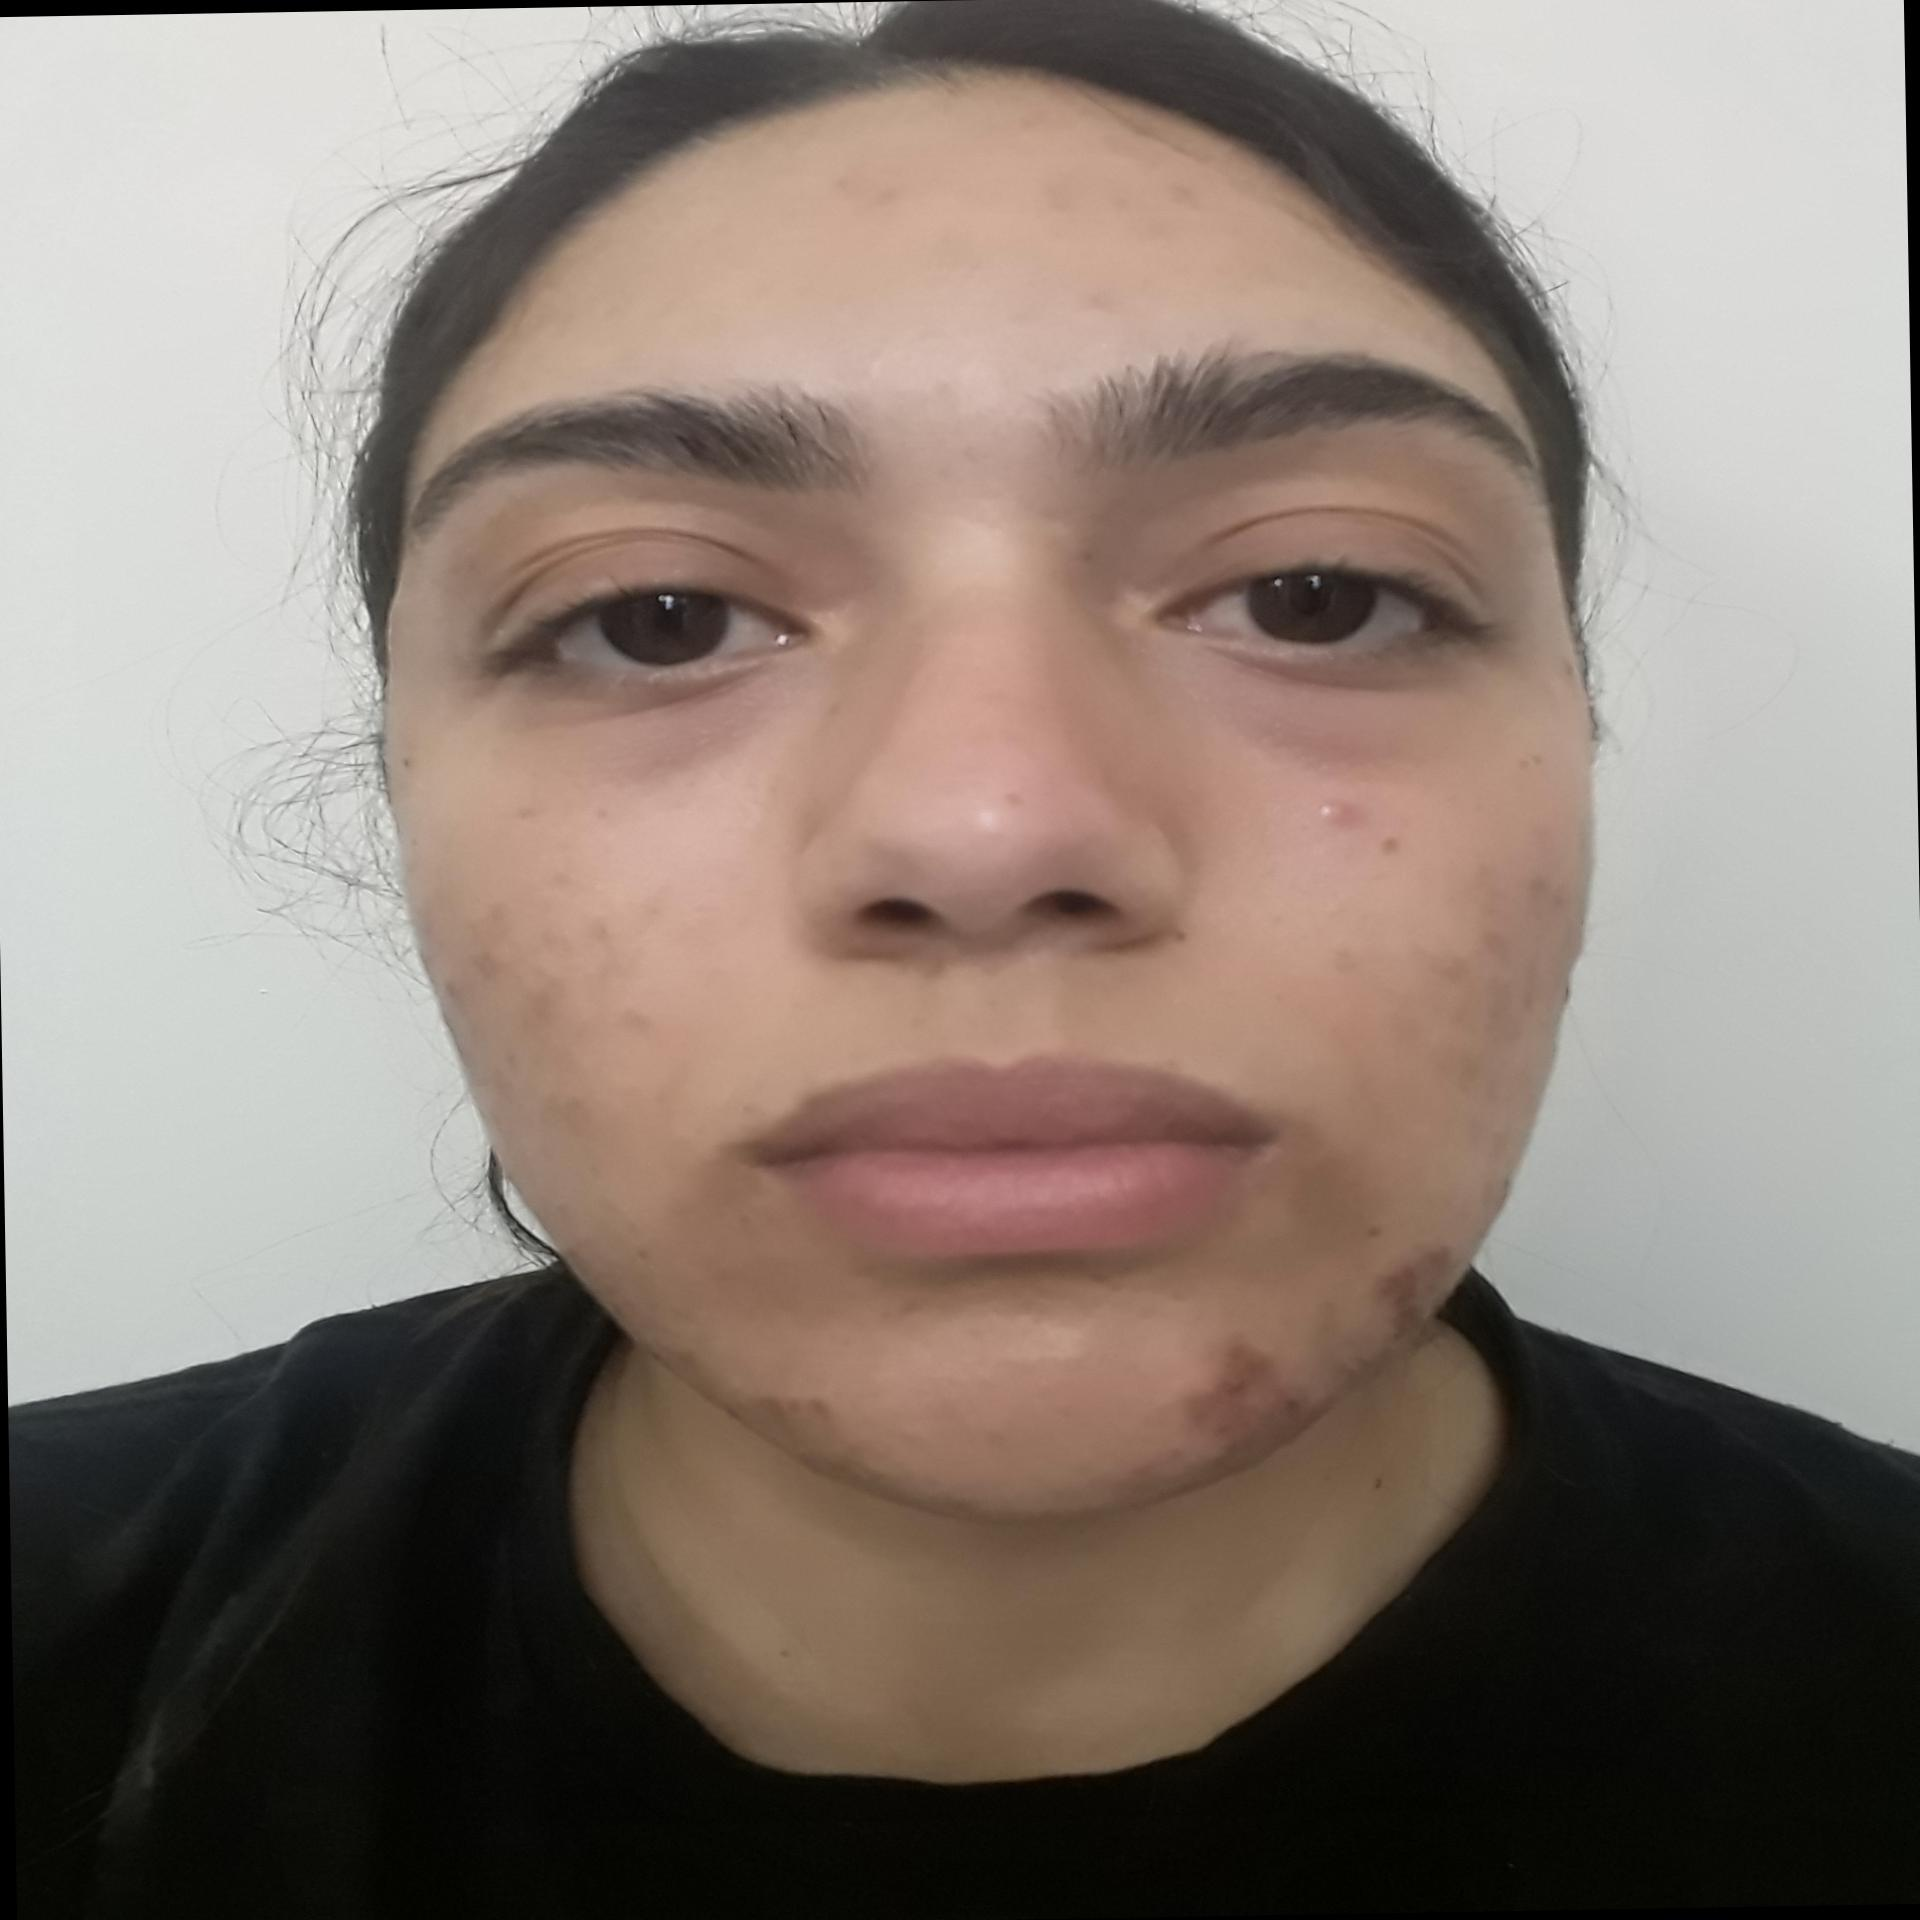Acne: (1167, 1338, 1278, 1433), (1359, 1241, 1431, 1333), (744, 1391, 832, 1431), (457, 891, 522, 942), (1143, 169, 1206, 213), (605, 990, 668, 1034), (1435, 846, 1496, 890), (519, 972, 568, 1025), (1299, 793, 1359, 835), (665, 1338, 716, 1382), (1030, 179, 1081, 222), (1463, 935, 1519, 971), (1078, 281, 1134, 315), (870, 178, 918, 216), (1357, 828, 1408, 863), (1266, 1393, 1310, 1431), (578, 913, 622, 949), (469, 944, 503, 992), (828, 160, 870, 195), (1435, 951, 1475, 986), (624, 1240, 661, 1273), (1329, 944, 1363, 972), (1015, 107, 1053, 128), (1524, 872, 1554, 898)
